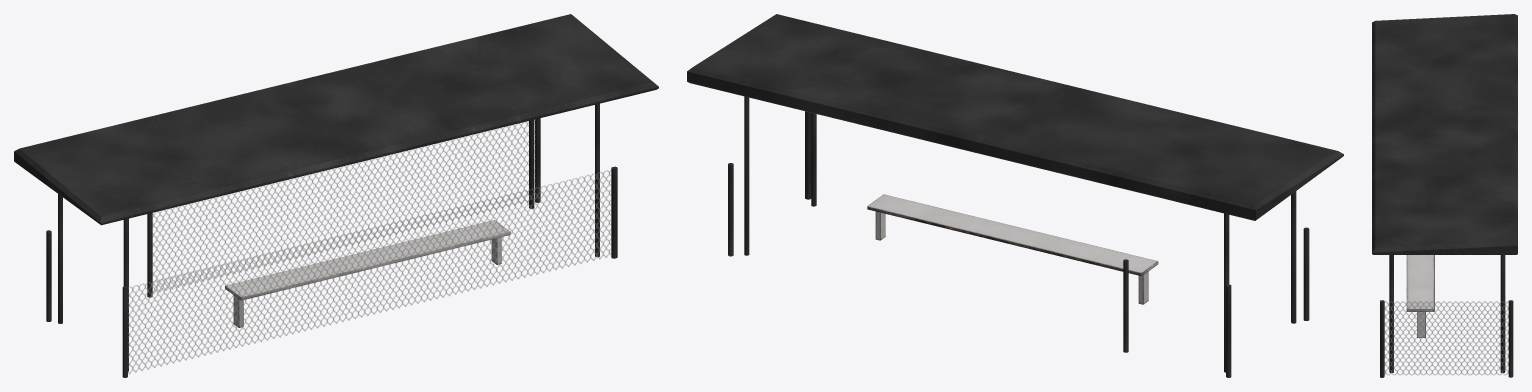
The model's file is Dugout.glb.
3 renders of one model, left to right at view 1: azimuth 30°, elevation 25°; view 2: azimuth 150°, elevation 25°; view 3: azimuth 270°, elevation 25°, orthographic. The views are drawn at different scales.
Visible parts, largest first — view 1: Storage_Room_Roof1, Fence_Gate (×2), DugoutBench_Seat, Fence_Pole_R1, Fence_Pole_L2, Fence_Pole_R; view 2: Storage_Room_Roof1, DugoutBench_Seat, Fence_Pole_R (×2), Fence_Pole_R2, Fence_Pole_L1, Fence_Pole_L2, Fence_Pole_R1, Fence_Pole_L; view 3: Storage_Room_Roof1, Fence_Gate, DugoutBench_Seat, Fence_Pole_R (×3), Fence_Pole_R2, Fence_Pole_R1, Legs_R4.
Boxes of the visible parts, bbox=[...] form: Storage_Room_Roof1: bbox=[14, 14, 658, 225]; Fence_Gate (×2): bbox=[128, 119, 611, 374]; DugoutBench_Seat: bbox=[225, 220, 510, 300]; Fence_Pole_R1: bbox=[595, 103, 599, 257]; Fence_Pole_L2: bbox=[58, 194, 62, 323]; Fence_Pole_R: bbox=[46, 230, 51, 321]; Storage_Room_Roof1: bbox=[687, 14, 1343, 220]; DugoutBench_Seat: bbox=[867, 194, 1158, 276]; Fence_Pole_R (×2): bbox=[728, 163, 1231, 377]; Fence_Pole_R2: bbox=[744, 96, 749, 255]; Fence_Pole_L1: bbox=[1291, 191, 1296, 323]; Fence_Pole_L2: bbox=[1224, 213, 1229, 372]; Fence_Pole_R1: bbox=[811, 113, 816, 206]; Fence_Pole_L: bbox=[1123, 259, 1128, 352]; Storage_Room_Roof1: bbox=[1372, 14, 1517, 254]; Fence_Gate: bbox=[1384, 301, 1508, 375]; DugoutBench_Seat: bbox=[1406, 255, 1434, 311]; Fence_Pole_R (×3): bbox=[1380, 300, 1513, 377]; Fence_Pole_R2: bbox=[1500, 255, 1505, 372]; Fence_Pole_R1: bbox=[1389, 255, 1393, 372]; Legs_R4: bbox=[1417, 312, 1425, 337].
Bounding box in the file's own units: 13.25 × 4.03 × 3.55.
Materials: 2 (2 with a texture image).
